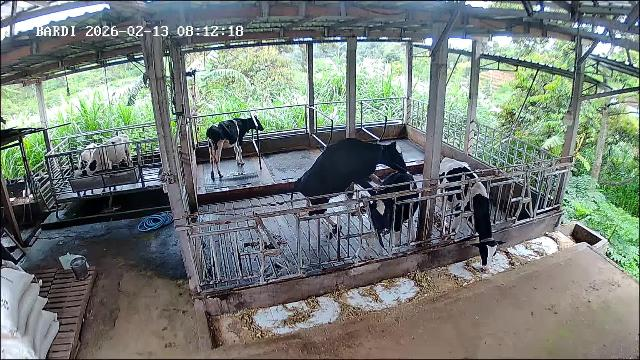mounting: (295, 137, 407, 239)
